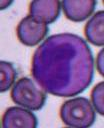M: (31, 32, 93, 96)
